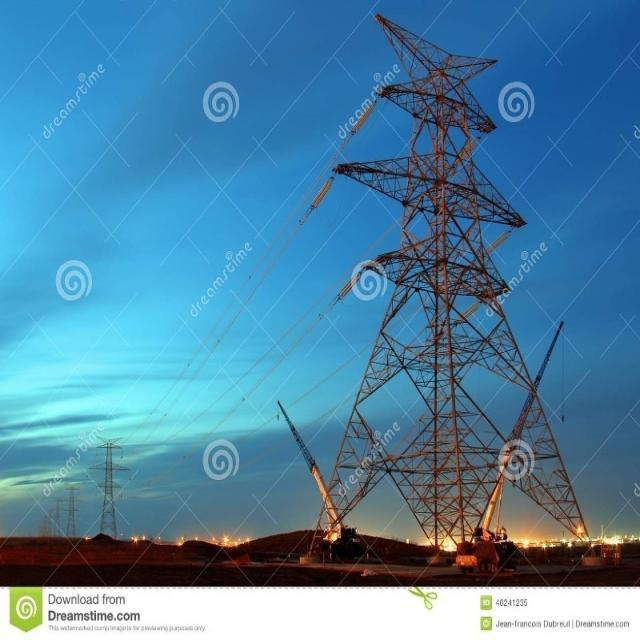non-critical vegetation: (353, 5, 561, 528)
